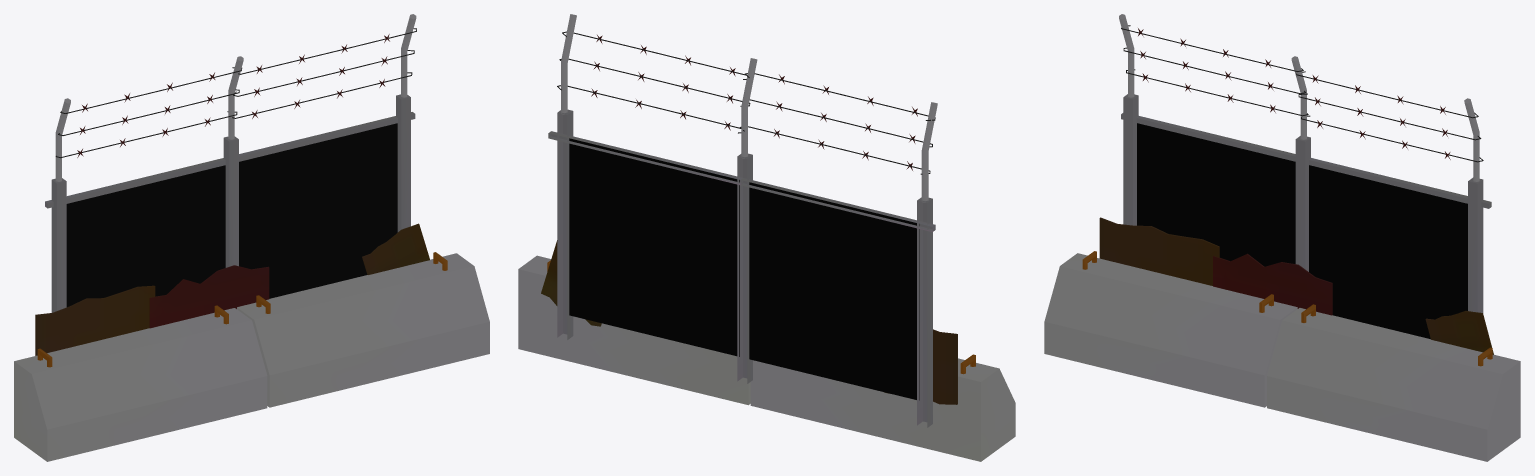
Rendered from Muro2.fbx.
3 renders of one model, left to right at view 1: azimuth 30°, elevation 25°; view 2: azimuth 150°, elevation 25°; view 3: azimuth 330°, elevation 25°, orthographic. The views are drawn at different scales.
Parts seen in each view (by area): view 1: BlocoDeConcreto, Grade, BarraMetalicaVertical, MetalEnferrujado1Muro2, MetalEnferrujado2Muro2, BarraMetalicaHorizontal, MetalEnferrujado3Muro2, FiosMuro2, CercaMuro2, MetalBlocoDeConcreto, ArameFarpadoMuro2; view 2: Grade, BlocoDeConcreto, BarraMetalicaVertical, BarraMetalicaHorizontal, CercaMuro2, FiosMuro2, MetalEnferrujado1Muro2, MetalEnferrujado3Muro2, ArameFarpadoMuro2; view 3: BlocoDeConcreto, Grade, BarraMetalicaVertical, MetalEnferrujado1Muro2, MetalEnferrujado2Muro2, BarraMetalicaHorizontal, MetalEnferrujado3Muro2, FiosMuro2, CercaMuro2, MetalBlocoDeConcreto, ArameFarpadoMuro2.
Boxes of the visible parts, bbox=[...] form: BlocoDeConcreto: bbox=[14, 253, 489, 461]; Grade: bbox=[66, 123, 397, 307]; BarraMetalicaVertical: bbox=[51, 94, 410, 312]; MetalEnferrujado1Muro2: bbox=[35, 285, 155, 355]; MetalEnferrujado2Muro2: bbox=[149, 265, 269, 328]; BarraMetalicaHorizontal: bbox=[45, 112, 415, 208]; MetalEnferrujado3Muro2: bbox=[362, 223, 429, 274]; FiosMuro2: bbox=[55, 28, 416, 158]; CercaMuro2: bbox=[55, 14, 416, 181]; MetalBlocoDeConcreto: bbox=[37, 252, 447, 367]; ArameFarpadoMuro2: bbox=[77, 34, 389, 157]; Grade: bbox=[569, 138, 919, 400]; BlocoDeConcreto: bbox=[518, 255, 1015, 461]; BarraMetalicaVertical: bbox=[557, 109, 932, 427]; BarraMetalicaHorizontal: bbox=[548, 131, 935, 231]; CercaMuro2: bbox=[561, 14, 937, 202]; FiosMuro2: bbox=[557, 31, 935, 174]; MetalEnferrujado1Muro2: bbox=[884, 329, 957, 404]; MetalEnferrujado3Muro2: bbox=[541, 240, 601, 326]; ArameFarpadoMuro2: bbox=[591, 35, 917, 170]; BlocoDeConcreto: bbox=[1044, 253, 1520, 461]; Grade: bbox=[1137, 123, 1467, 339]; BarraMetalicaVertical: bbox=[1123, 94, 1483, 313]; MetalEnferrujado1Muro2: bbox=[1099, 217, 1219, 285]; MetalEnferrujado2Muro2: bbox=[1213, 253, 1332, 315]; BarraMetalicaHorizontal: bbox=[1121, 113, 1491, 208]; MetalEnferrujado3Muro2: bbox=[1425, 311, 1493, 354]; FiosMuro2: bbox=[1121, 25, 1483, 162]; CercaMuro2: bbox=[1119, 14, 1479, 181]; MetalBlocoDeConcreto: bbox=[1082, 251, 1492, 366]; ArameFarpadoMuro2: bbox=[1138, 28, 1450, 159].
Size of the model in its own units: 297 by 211 by 47.55.
